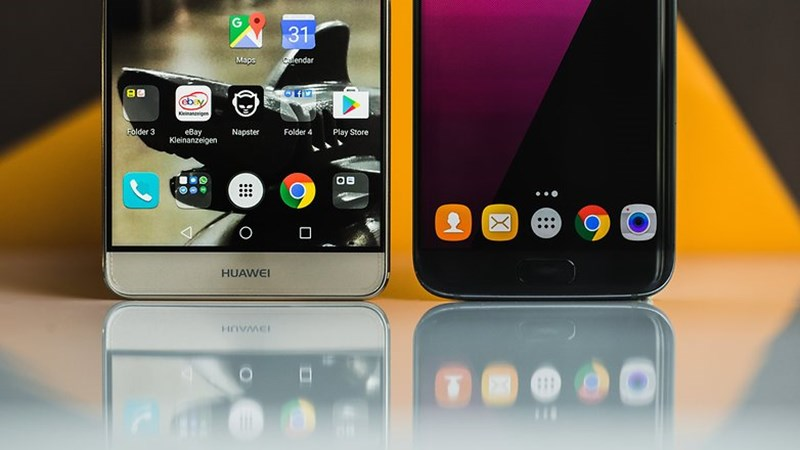Phone: (101, 1, 392, 302), (410, 1, 680, 304)
